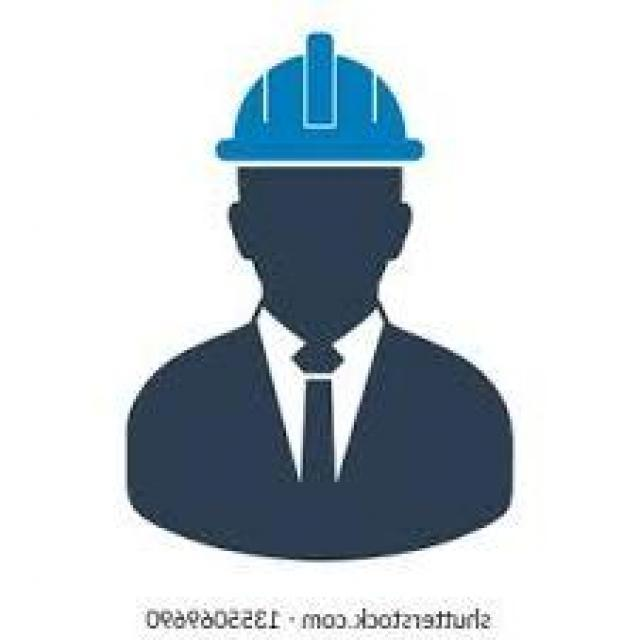safety_helmet: (215, 46, 425, 177)
